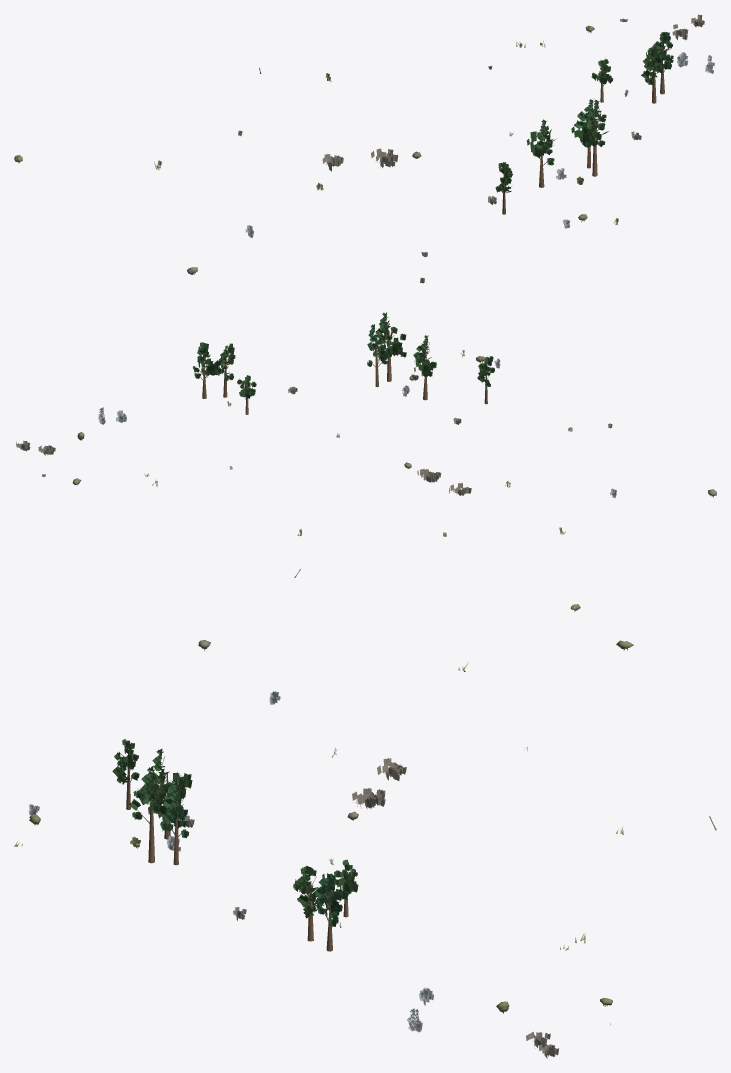
File: coast_land_scatter_c11_24.glb
3 renders of one model, top to bottom at view 1: azimuth 30°, elevation 25°; view 2: azimuth 150°, elevation 25°; view 3: azimuth 270°, elevation 25°, orthographic. The views are drawn at different scales.
Visible parts, largest first — view 1: coast_land_scatter_c11_24; view 2: coast_land_scatter_c11_24; view 3: coast_land_scatter_c11_24.
Boxes of the visible parts, x1,y1,x2,y2 form: coast_land_scatter_c11_24: (14,14,714,283); coast_land_scatter_c11_24: (16,312,716,611); coast_land_scatter_c11_24: (14,640,716,1058).
Bounding box in the file's own units: 100 × 15.44 × 71.84.
